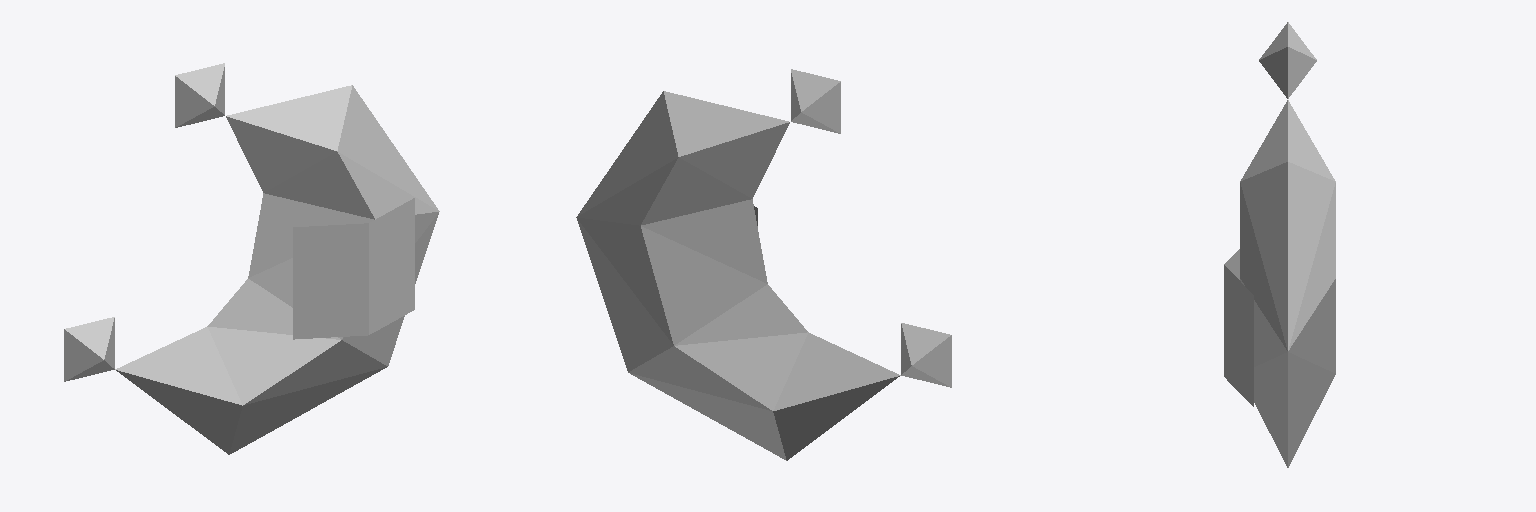
Rendered from Power Moon 64st.obj.
3 views of the same model, side by side, from view 1: azimuth 30°, elevation 25°; view 2: azimuth 150°, elevation 25°; view 3: azimuth 270°, elevation 25° (orthographic).
Visible parts, largest first — view 1: Plane.000_Plane.005; view 2: Plane.000_Plane.005; view 3: Plane.000_Plane.005.
Boxes of the visible parts, <box> form: Plane.000_Plane.005: <box>64,63,439,454</box>; Plane.000_Plane.005: <box>576,69,951,460</box>; Plane.000_Plane.005: <box>1224,22,1335,467</box>.
Size of the model in its own units: 8.82 by 8.83 by 2.28.